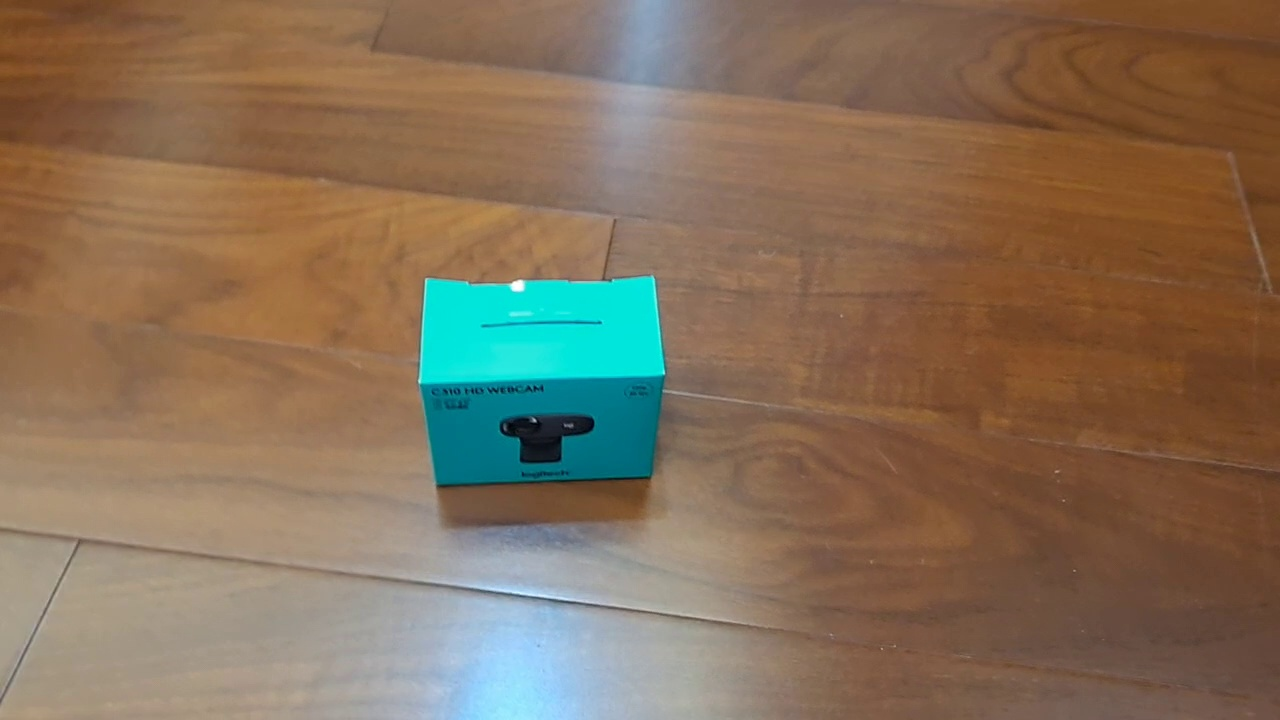webcam: (416, 274, 666, 488)
